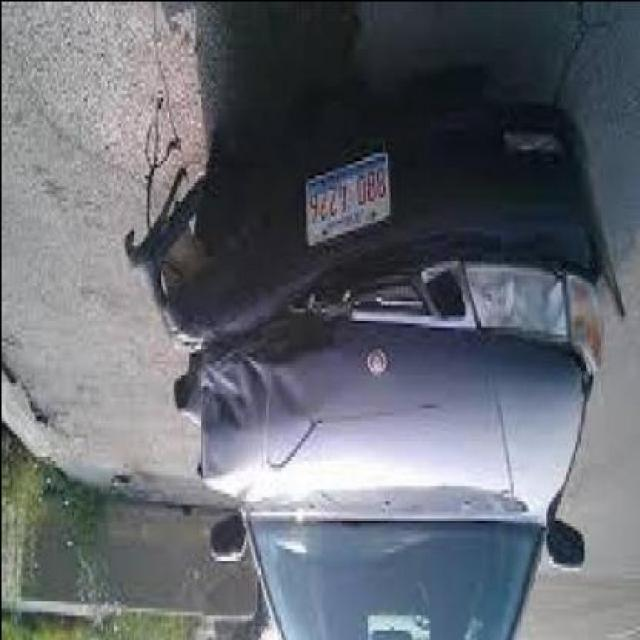damage: (122, 100, 335, 515)
